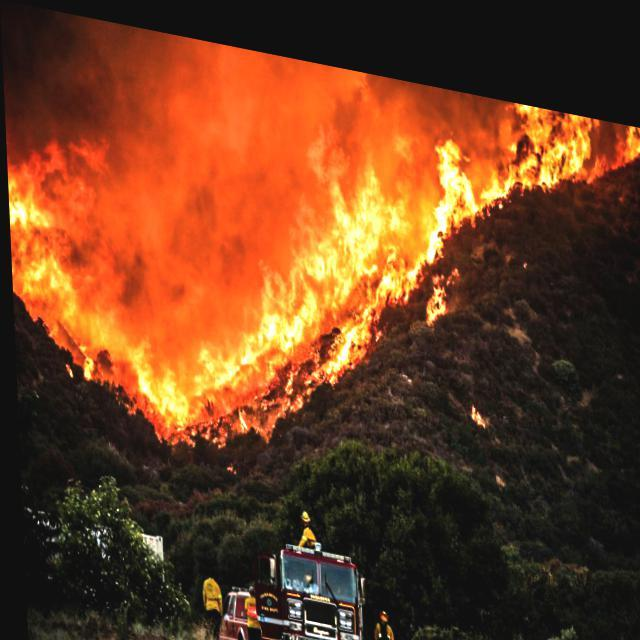Fire: (2, 4, 639, 481), (422, 262, 448, 310), (466, 380, 484, 412)
